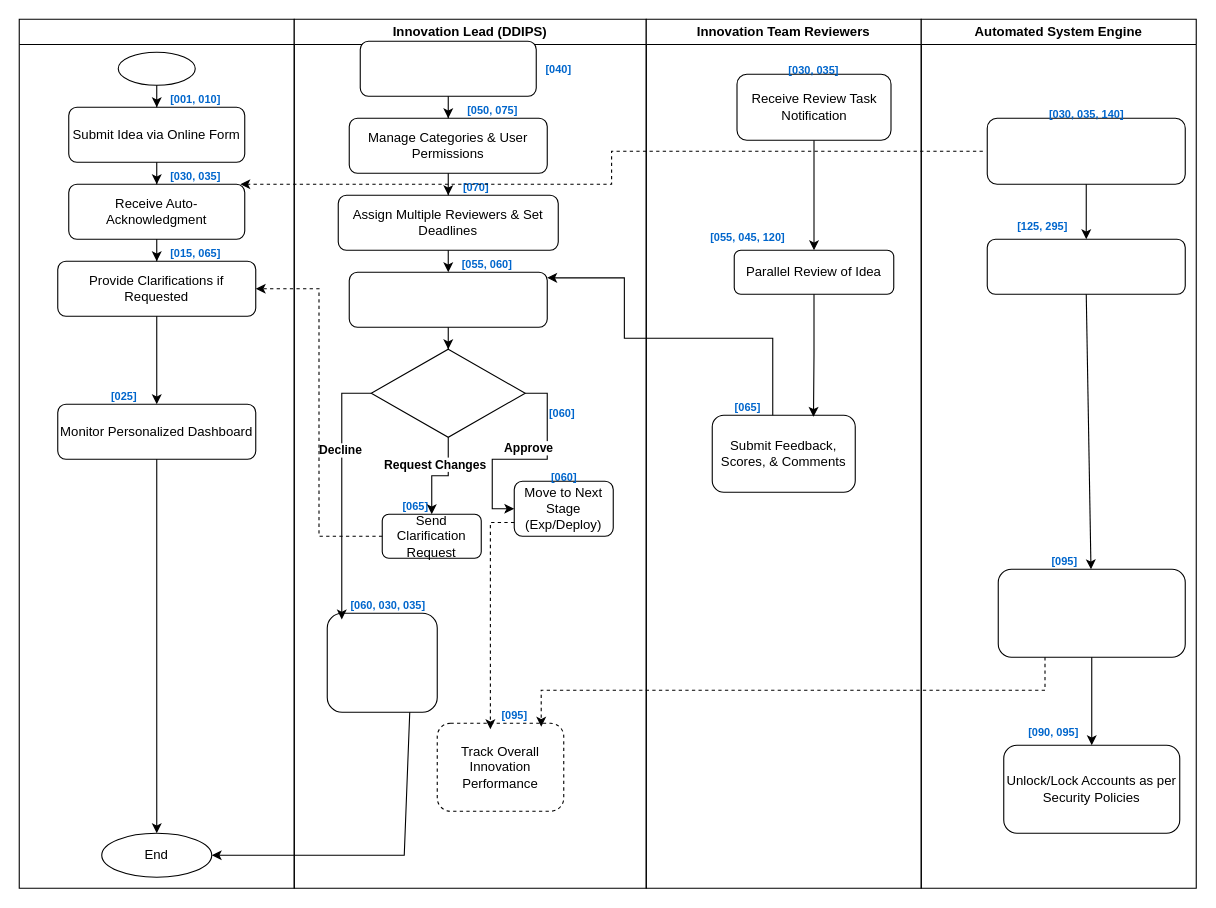
The diagram is 1216 pixels wide and 908 high, and some of its shapes have lost their labels. The box of each missing label's shape, as (x1, y1, x2, y2) in pixels:
Close Idea with Notification: (326, 612, 437, 712)
Compile & Analyze Reviewer Feedback: (348, 271, 547, 327)
Extract Reports in PDF/Excel Formats: (997, 568, 1185, 657)
Generate Comprehensive Audit Trail: (986, 238, 1185, 294)
Receive New Submission Alert: (359, 40, 536, 96)
Send Notifications & Escalation Reminders: (986, 117, 1185, 184)
Staff User: (18, 18, 294, 888)
Stage Gate Decision: (370, 348, 525, 437)
Start: (117, 51, 195, 85)
